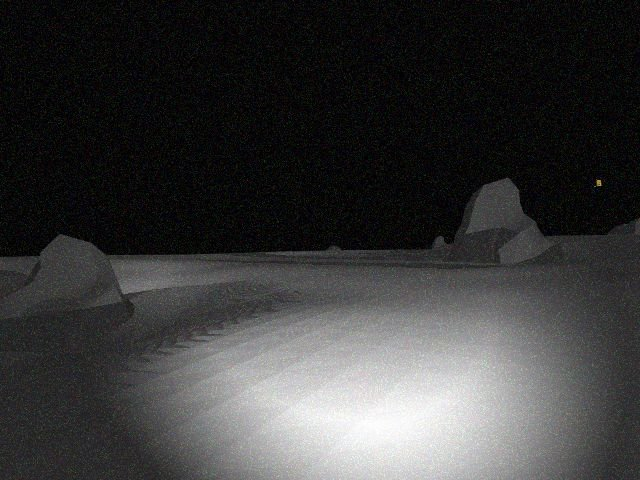cubesat: (589, 178, 604, 190)
